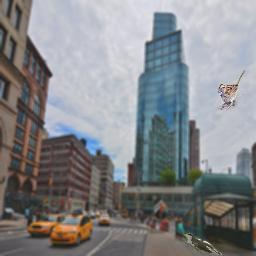Cuckoo: (182, 233, 222, 255)
Sparrow: (218, 70, 245, 110)
